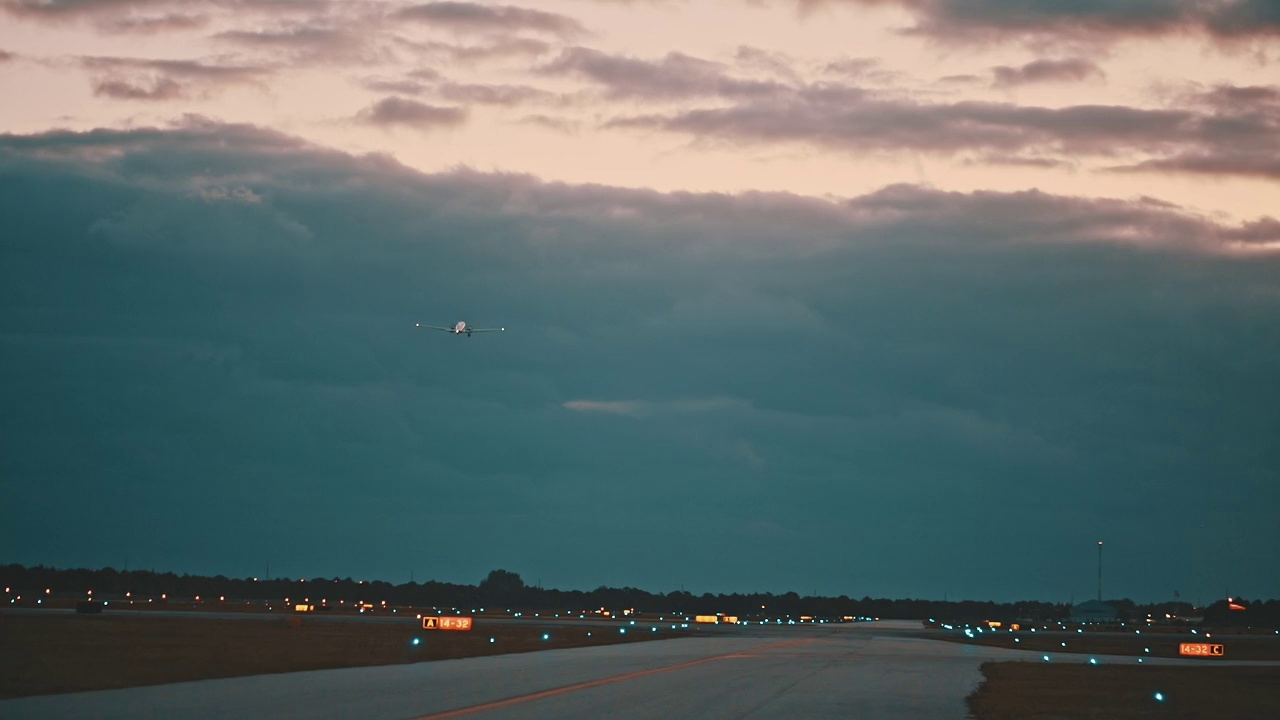plane: (415, 319, 504, 339)
